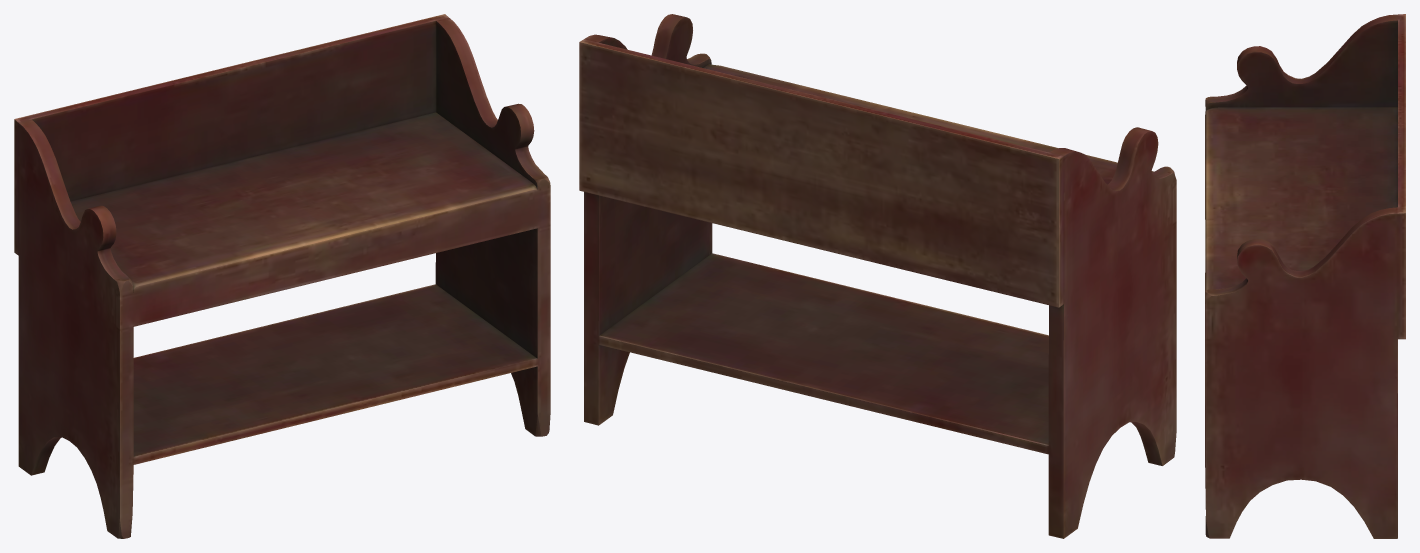
The model's file is painted_wooden_bench.glb.
3 renders of one model, left to right at view 1: azimuth 30°, elevation 25°; view 2: azimuth 150°, elevation 25°; view 3: azimuth 270°, elevation 25°, orthographic. The views are drawn at different scales.
Visible parts, largest first — view 1: painted_wooden_bench; view 2: painted_wooden_bench; view 3: painted_wooden_bench.
Part boxes in pixels (x1,y1,x2,y2): painted_wooden_bench: (14,14,550,538); painted_wooden_bench: (579,14,1176,538); painted_wooden_bench: (1205,14,1405,538).
Size of the model in its own units: 1.16 by 0.8893 by 0.4965.
1 material, 1 textured.
